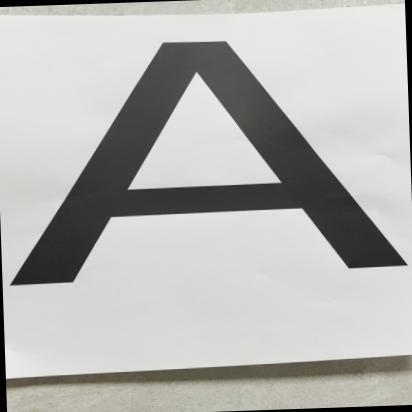seat: (0, 9, 412, 334)
